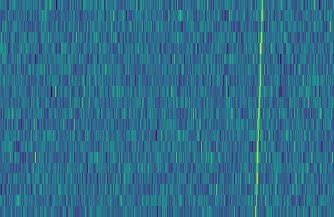signal: (252, 0, 268, 217)
